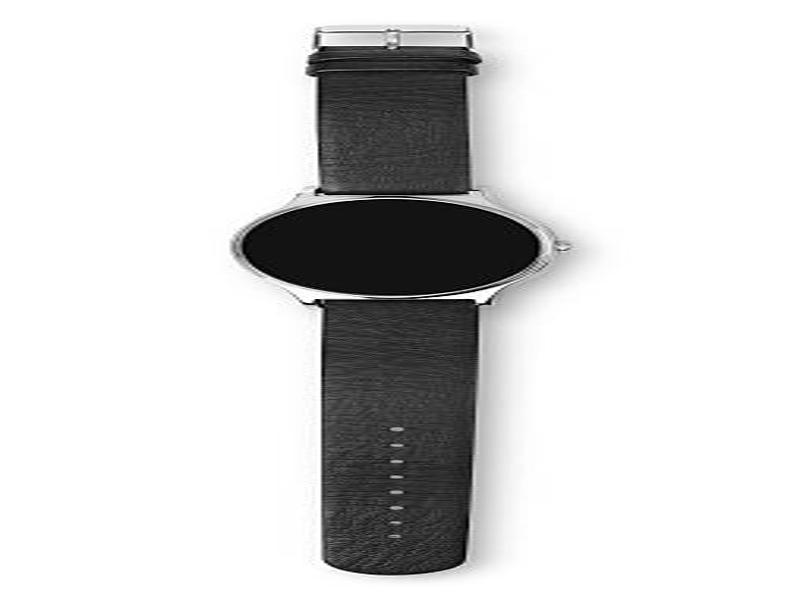watch: (251, 16, 562, 579)
